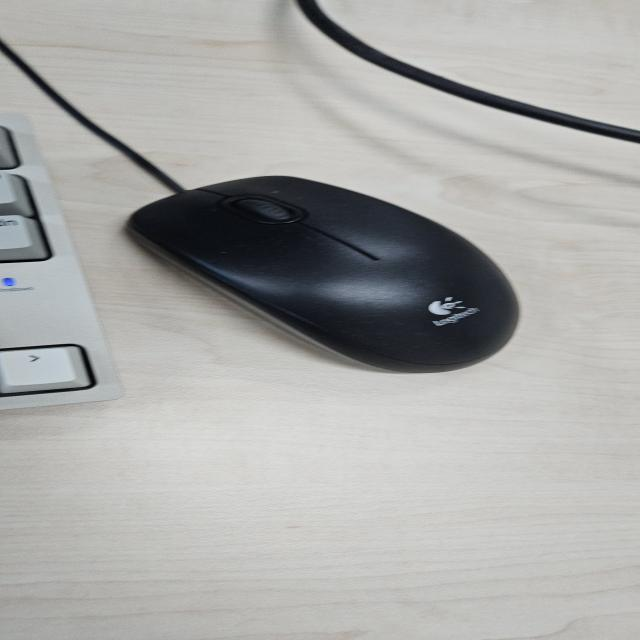Keyboard: (1, 112, 124, 411)
Mouse: (124, 173, 524, 374)
